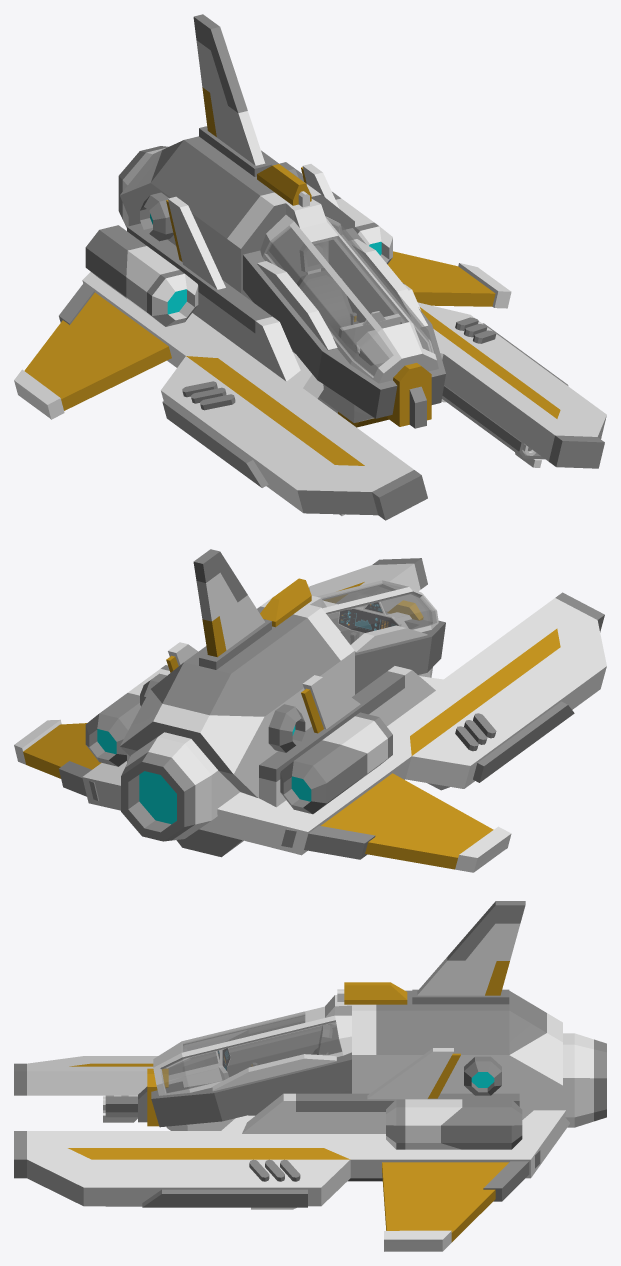
Rendered from SM_SpaceshipS_Assault04.fbx.
The picture shows the model from 3 angles, top to bottom: view 1: azimuth 30°, elevation 25°; view 2: azimuth 150°, elevation 25°; view 3: azimuth 270°, elevation 25°; orthographic projection. The views are drawn at different scales.
Visible parts, largest first — view 1: SM_SpaceshipS_Assault04_Body, SM_SpaceshipS_Assault03_Cockpit, SM_SpaceshipS_Assault03_Cockpit_Glass, SM_SpaceshipS_Assault03_L_Cannon; view 2: SM_SpaceshipS_Assault04_Body, SM_SpaceshipS_Assault03_Cockpit, SM_SpaceshipS_Assault03_Cockpit_Glass; view 3: SM_SpaceshipS_Assault04_Body, SM_SpaceshipS_Assault03_Cockpit, SM_SpaceshipS_Assault03_Cockpit_Glass, SM_SpaceshipS_Assault03_R_Cannon.
Part boxes in pixels (x1,y1,x2,y2): SM_SpaceshipS_Assault04_Body: (14,14,606,520); SM_SpaceshipS_Assault03_Cockpit: (243,199,445,428); SM_SpaceshipS_Assault03_Cockpit_Glass: (264,217,434,377); SM_SpaceshipS_Assault03_L_Cannon: (441,385,544,467); SM_SpaceshipS_Assault04_Body: (14,549,606,872); SM_SpaceshipS_Assault03_Cockpit: (176,591,445,857); SM_SpaceshipS_Assault03_Cockpit_Glass: (316,580,436,644); SM_SpaceshipS_Assault04_Body: (14,901,606,1251); SM_SpaceshipS_Assault03_Cockpit: (138,995,382,1181); SM_SpaceshipS_Assault03_Cockpit_Glass: (159,1006,342,1093); SM_SpaceshipS_Assault03_R_Cannon: (103,1095,137,1122).
Size of the model in its own units: 520 by 321 by 662.
